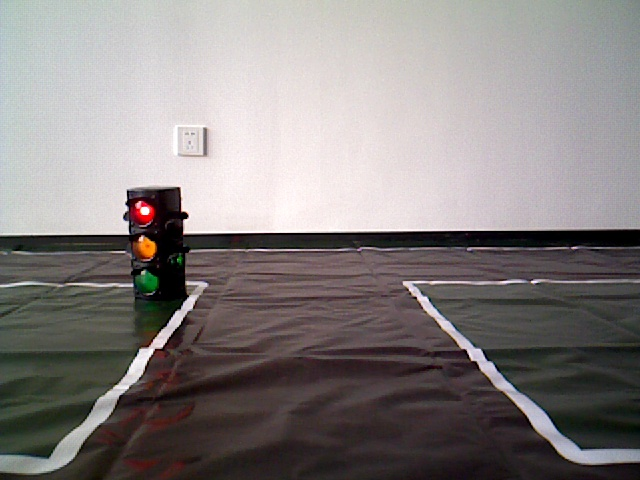red: (125, 189, 179, 301)
